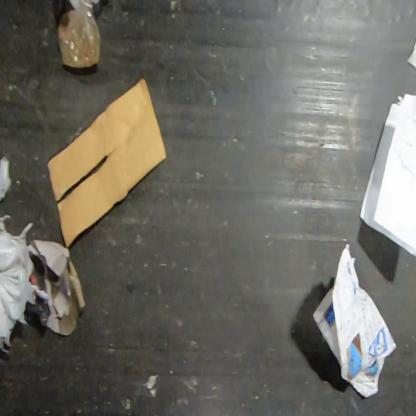cardboard: (46, 76, 167, 248)
rigid_plastic: (56, 0, 103, 71)
soft_plastic: (0, 213, 50, 356), (0, 155, 13, 204)
